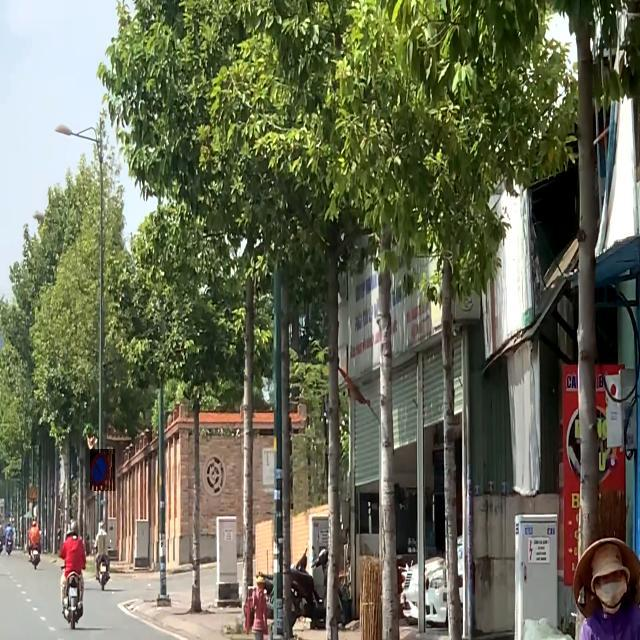P-131a: (90, 449, 115, 491)
